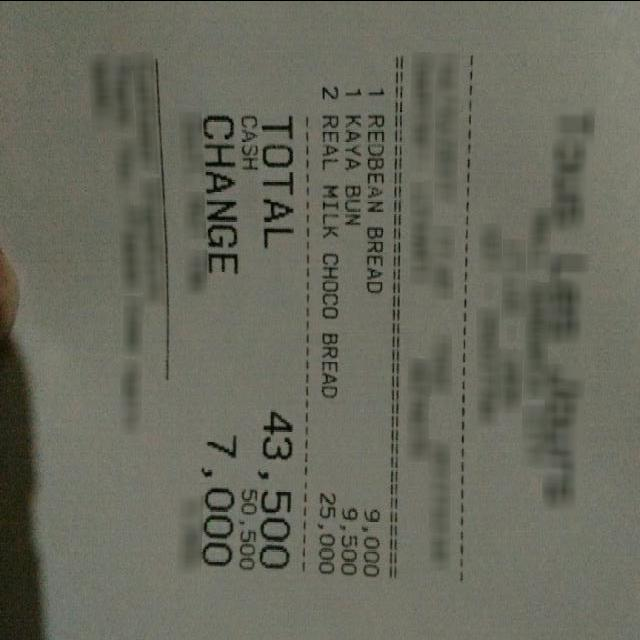kertas: (0, 4, 640, 638)
